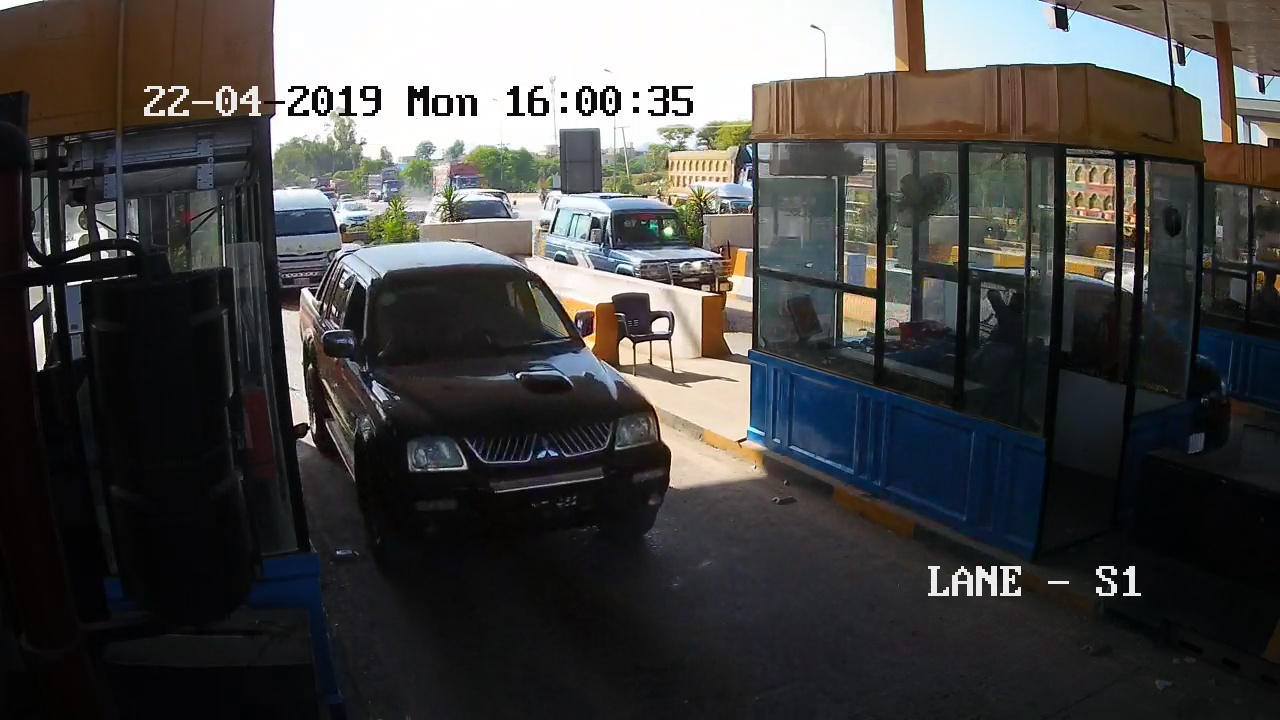car: (295, 246, 716, 576)
